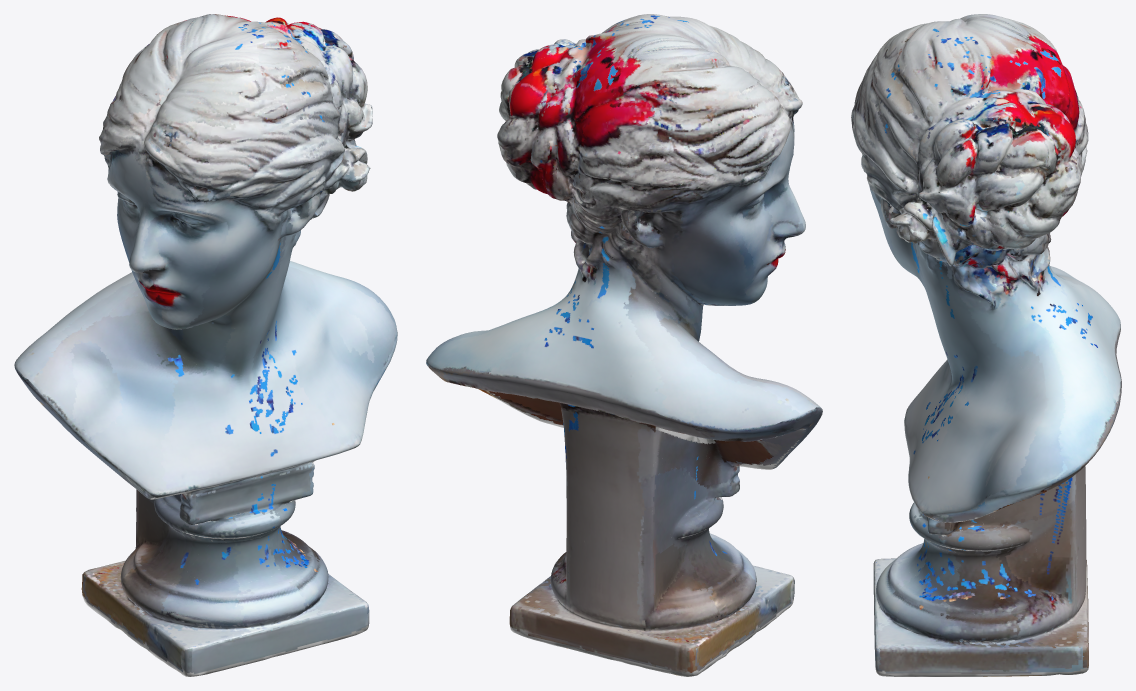
3 views of the same model, side by side, from view 1: azimuth 30°, elevation 25°; view 2: azimuth 150°, elevation 25°; view 3: azimuth 270°, elevation 25° (orthographic). The views are drawn at different scales.
Visible parts, largest first — view 1: 9.003; view 2: 9.003; view 3: 9.003.
Part boxes in pixels (x1,y1,x2,y2): 9.003: (14,14,397,676); 9.003: (426,14,822,676); 9.003: (851,14,1121,676).
Bounding box in the file's own units: 1.32 × 2 × 0.8123.
1 material, 1 textured.
